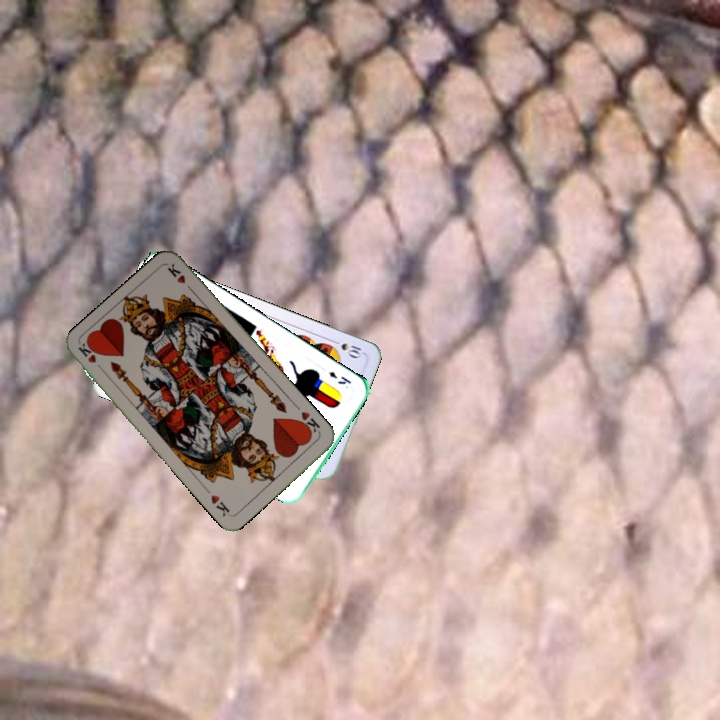EK: (324, 367, 354, 387)
HK: (74, 339, 107, 375), (294, 408, 323, 438)
S10: (327, 336, 366, 361)
